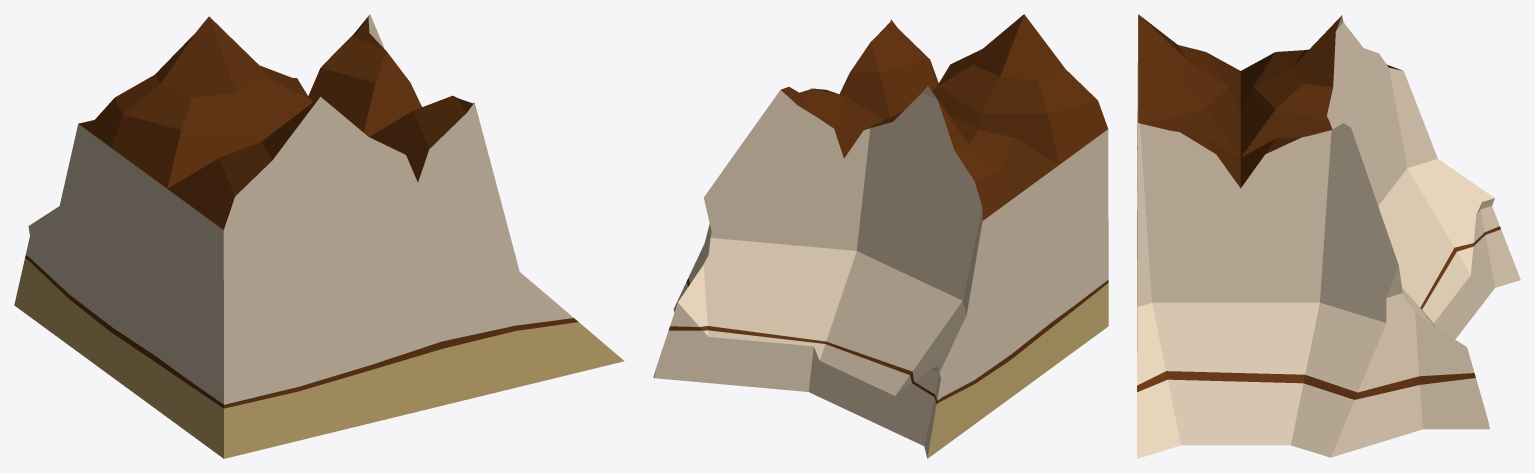
Rendered from TiramisuState4.fbx.
The picture shows the model from 3 angles, left to right: view 1: azimuth 30°, elevation 25°; view 2: azimuth 150°, elevation 25°; view 3: azimuth 270°, elevation 25°; orthographic projection. The views are drawn at different scales.
Visible parts, largest first — view 1: TiramisuState4; view 2: TiramisuState4; view 3: TiramisuState4.
Part boxes in pixels (x1,y1,x2,y2): TiramisuState4: [14, 14, 624, 458]; TiramisuState4: [653, 14, 1108, 458]; TiramisuState4: [1137, 14, 1520, 458].
Size of the model in its own units: 55.03 by 44.4 by 49.9.
